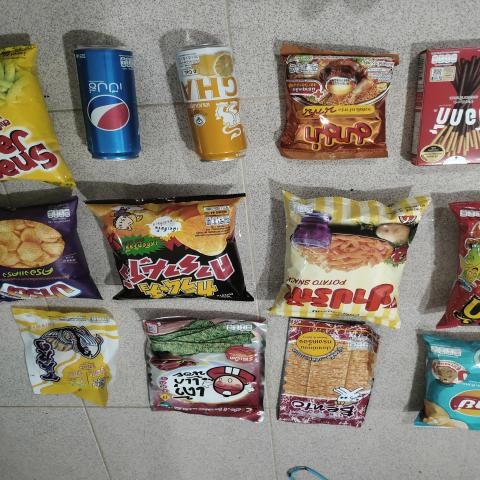bento_red: (278, 319, 370, 434)
karamujo: (104, 201, 250, 302)
lay_blue: (434, 336, 480, 428)
mama: (269, 39, 389, 156)
paprika: (282, 192, 408, 322)
party_purple: (0, 197, 88, 301)
pepsi_blue: (67, 38, 145, 169)
pokki: (414, 46, 480, 166)
singha_yellow: (165, 38, 255, 164)
taokaenoi: (149, 318, 250, 414)
taro_yellow: (19, 310, 110, 397)
